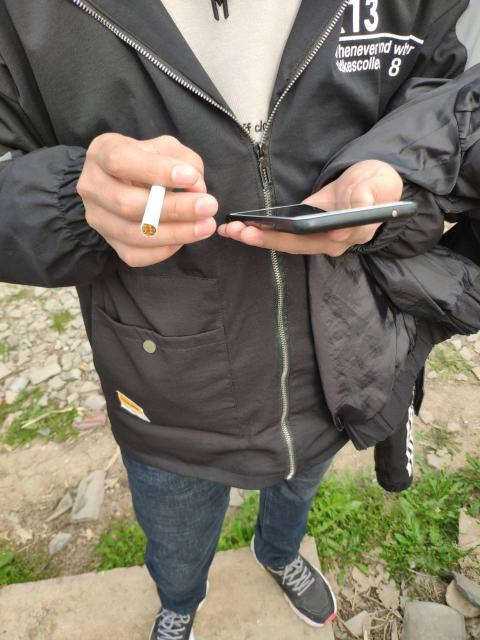Cigarette: (134, 172, 180, 244)
